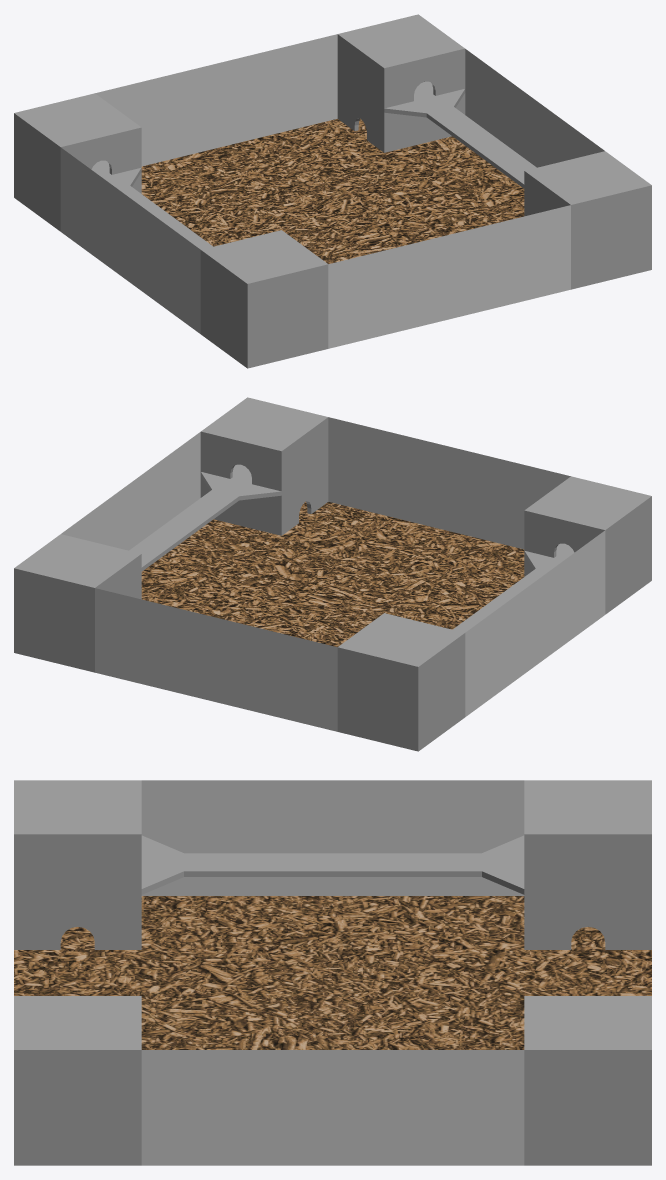
File: Cage_KD_SmoothFloor.fbx
3 views of the same model, one above another, from view 1: azimuth 30°, elevation 25°; view 2: azimuth 150°, elevation 25°; view 3: azimuth 270°, elevation 25° (orthographic). The views are drawn at different scales.
Visible parts, largest first — view 1: Cage_Floor, Towers_1, Towers_2, Cage_wall_3, Cage_wall_1, Cage_wall_2, Cage_wall_4; view 2: Cage_Floor, Towers_1, Towers_2, Cage_wall_1, Cage_wall_3, Cage_wall_2, Cage_wall_4; view 3: Cage_Floor, Towers_2, Cage_wall_4, Towers_1, Cage_wall_2.
Boxes of the visible parts, box(x1,y1,x2,y2) form: Cage_Floor: box(141, 118, 524, 263); Towers_1: box(337, 14, 651, 289); Towers_2: box(14, 93, 328, 368); Cage_wall_3: box(328, 205, 570, 348); Cage_wall_1: box(95, 34, 337, 166); Cage_wall_2: box(60, 147, 200, 333); Cage_wall_4: box(465, 49, 604, 167); Cage_Floor: box(141, 501, 524, 646); Towers_1: box(14, 397, 328, 672); Towers_2: box(337, 476, 651, 751); Cage_wall_1: box(95, 588, 337, 731); Cage_wall_3: box(328, 417, 570, 549); Cage_wall_2: box(465, 530, 605, 716); Cage_wall_4: box(61, 432, 200, 550); Cage_Floor: box(14, 896, 651, 1049); Towers_2: box(14, 780, 651, 949); Cage_wall_4: box(141, 1050, 524, 1165); Towers_1: box(14, 996, 651, 1165); Cage_wall_2: box(141, 780, 524, 895).
Size of the model in its own units: 300 by 60 by 300.
